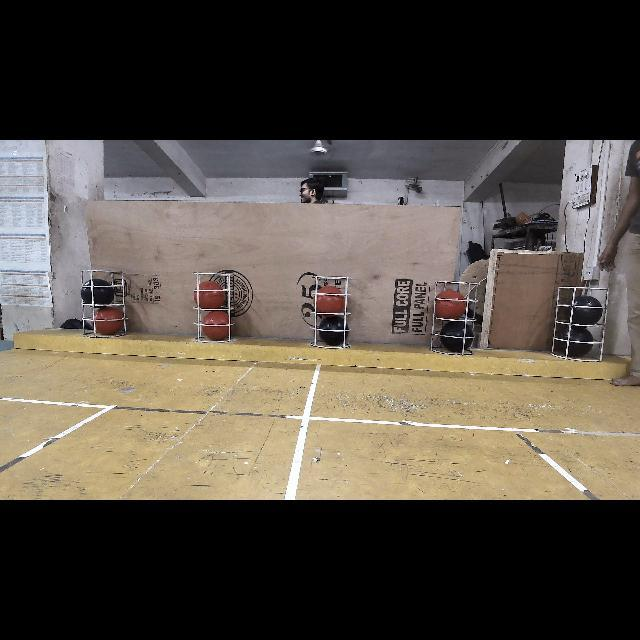P: (556, 325, 592, 357), (568, 296, 602, 326), (441, 322, 474, 352), (82, 278, 115, 306), (320, 316, 350, 346)
R: (200, 310, 232, 338), (314, 286, 346, 314), (92, 308, 124, 334), (194, 282, 224, 308), (436, 292, 466, 318)
S: (78, 266, 134, 342), (190, 264, 238, 344), (431, 280, 481, 356), (307, 274, 351, 348)
